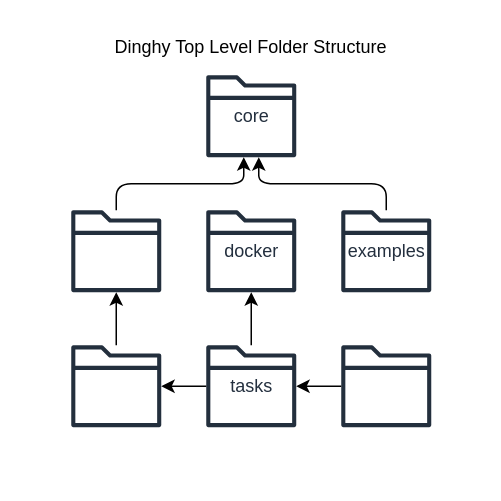
Image size: 501x501. Some labels were removed from this diagram. Each missing label, with the box of its shape:
.github: (340, 340, 430, 430)
cli: (70, 340, 160, 430)
engine: (70, 206, 160, 296)
